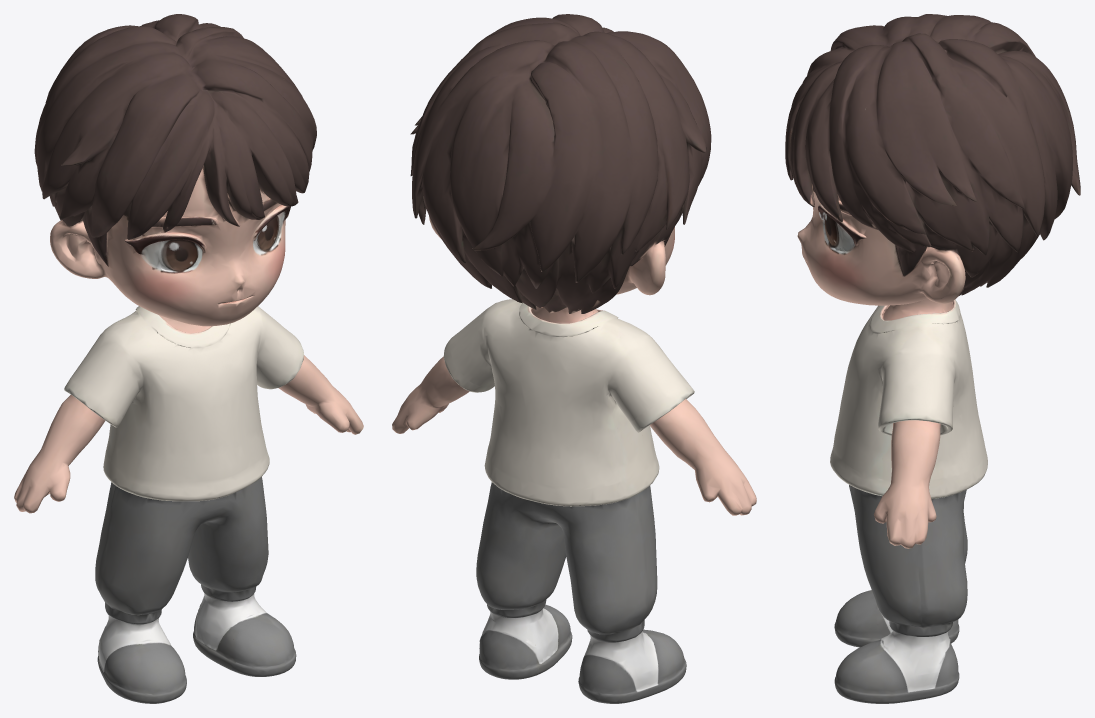
The model's file is hero_m_toy_a_tripo_mv30k_e4df0454_facez.glb.
3 views of the same model, side by side, from view 1: azimuth 30°, elevation 25°; view 2: azimuth 150°, elevation 25°; view 3: azimuth 270°, elevation 25° (orthographic). The views are drawn at different scales.
Visible parts, largest first — view 1: tripo_node_2495e455-74e9-4061-bbf8-f8856d7730f1; view 2: tripo_node_2495e455-74e9-4061-bbf8-f8856d7730f1; view 3: tripo_node_2495e455-74e9-4061-bbf8-f8856d7730f1.
Boxes of the visible parts, x1=… form: tripo_node_2495e455-74e9-4061-bbf8-f8856d7730f1: x1=14, y1=14, x2=363, y2=703; tripo_node_2495e455-74e9-4061-bbf8-f8856d7730f1: x1=392, y1=14, x2=756, y2=703; tripo_node_2495e455-74e9-4061-bbf8-f8856d7730f1: x1=785, y1=14, x2=1080, y2=703.
Size of the model in its own units: 0.5568 by 0.9795 by 0.4125.
1 material, 1 textured.
